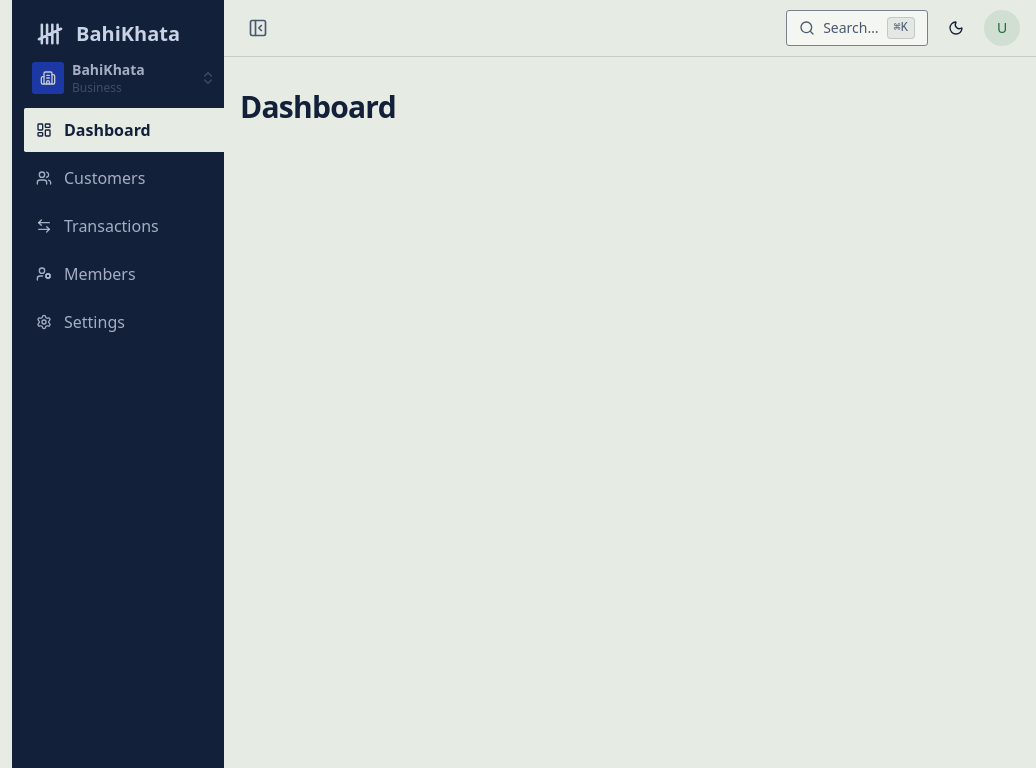
Test: app shell › collapses the desktop sidebar to an icon rail
Click the button named "Collapse sidebar" at (258, 28), box x1=240 y1=10 x2=276 y2=46
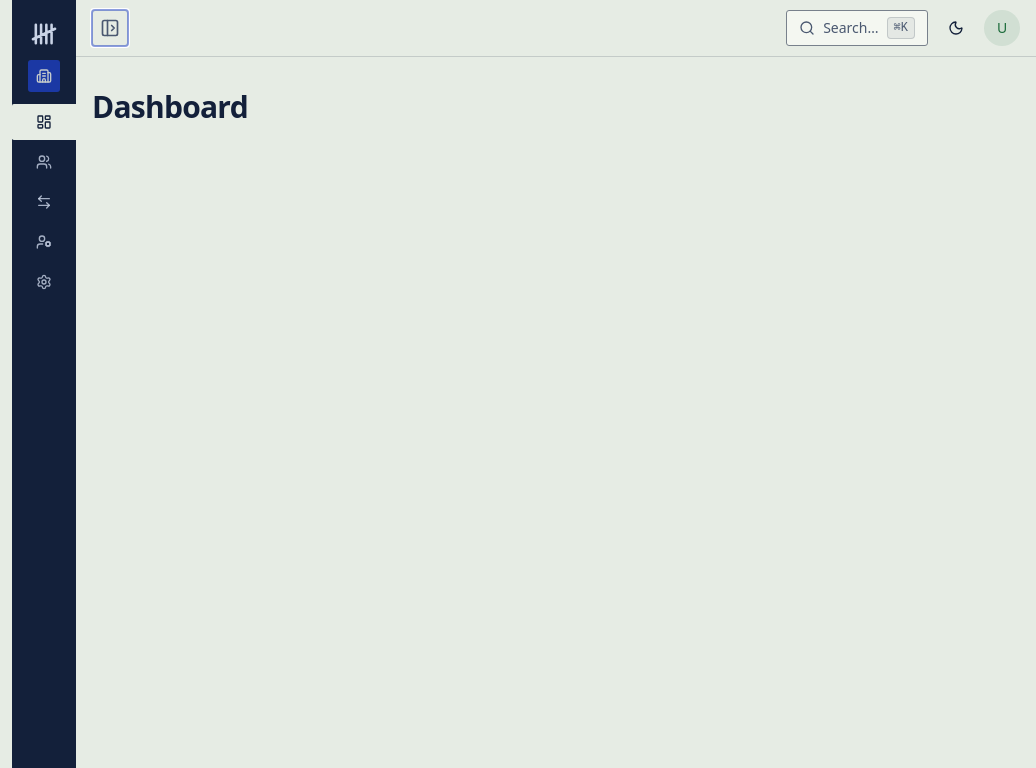
Check: the text "Transactions" is gone
Check: the button named "Expand sidebar" is shown, box x1=92 y1=10 x2=128 y2=46
